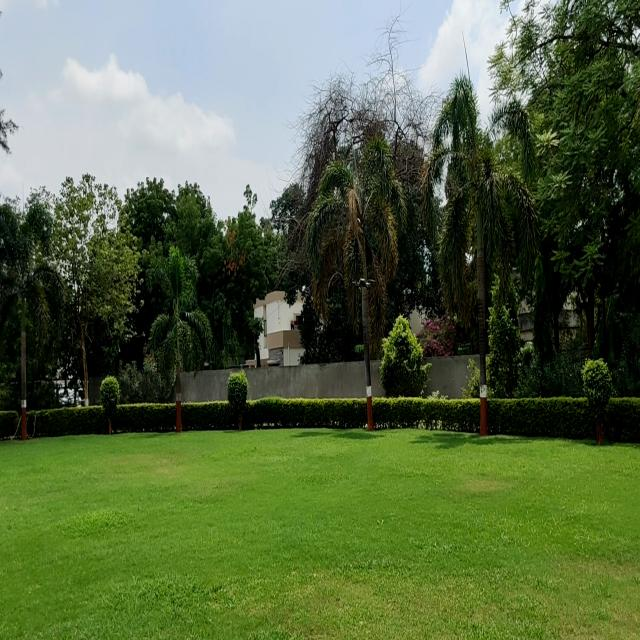drone: (348, 266, 380, 300)
